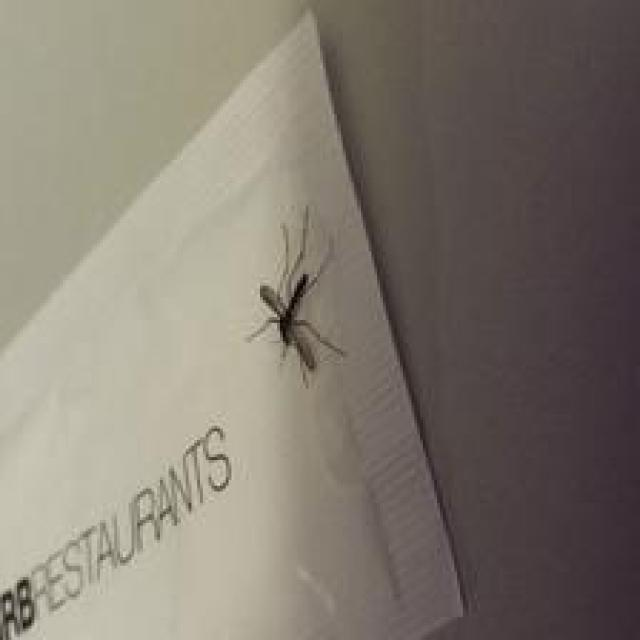Aedes albopictus: (244, 204, 347, 387)
